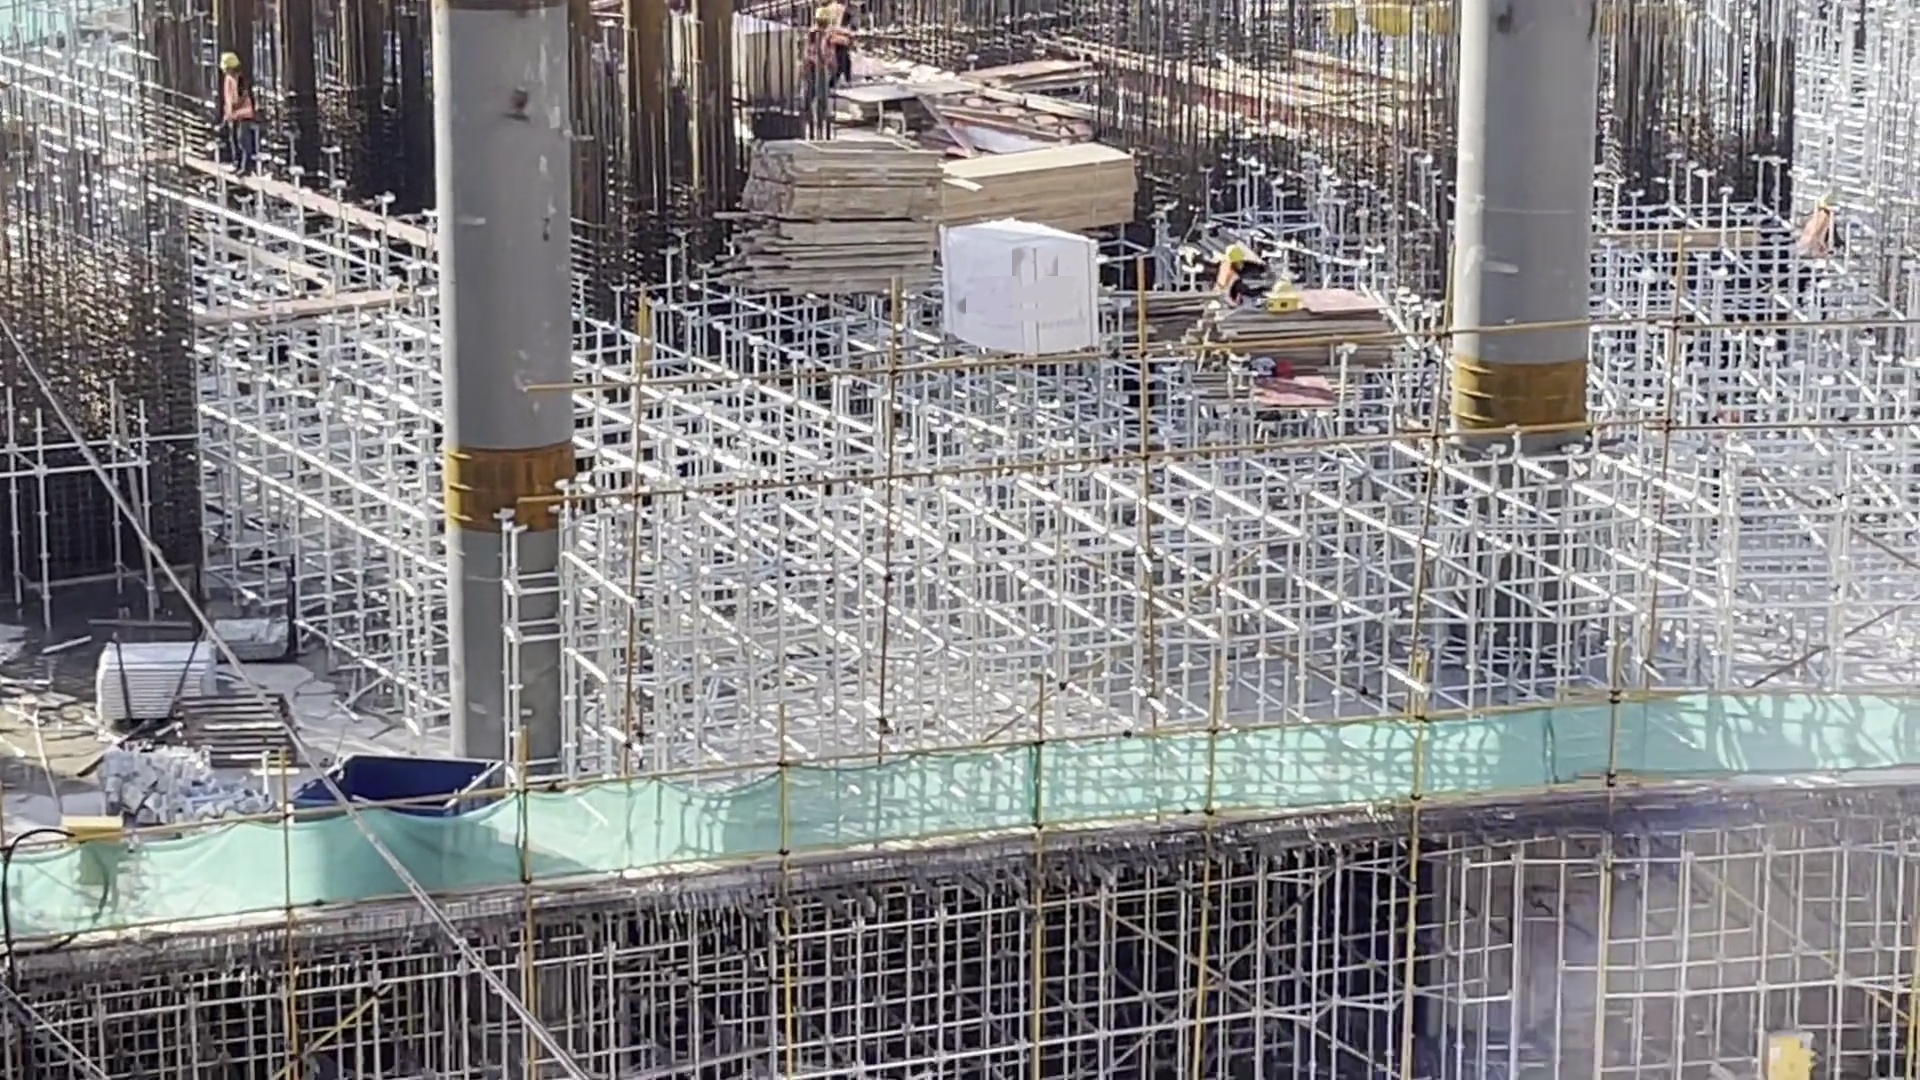board: (1161, 291, 1413, 391), (726, 9, 788, 111)
ebox: (59, 829, 131, 892)
helmet: (1226, 249, 1253, 277), (1821, 193, 1839, 214), (220, 51, 238, 69), (819, 5, 829, 28)
person: (1799, 174, 1838, 311), (1191, 233, 1274, 296), (223, 53, 261, 166), (793, 23, 821, 126), (830, 1, 854, 76)
scaffold: (24, 652, 238, 724)
vest: (801, 32, 828, 96), (228, 77, 259, 131), (1216, 262, 1246, 301), (1806, 219, 1836, 251), (835, 1, 847, 48)
wood: (763, 131, 934, 279), (948, 166, 1128, 247)
